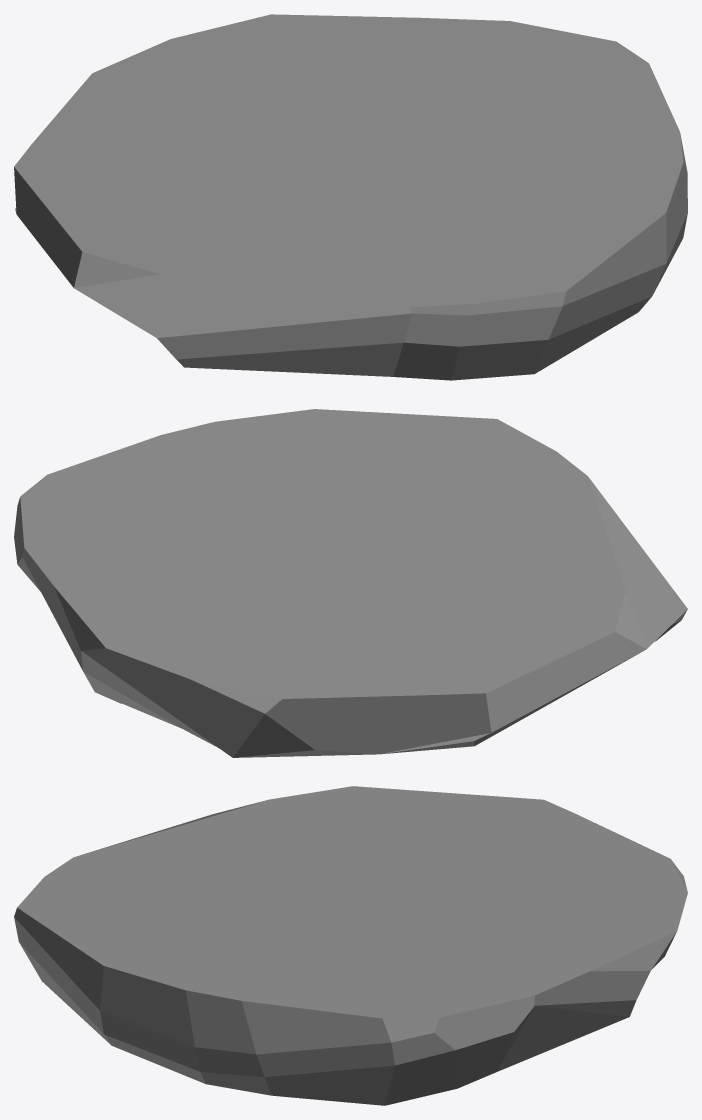
Rendered from HardRock_24.fbx.
3 renders of one model, top to bottom at view 1: azimuth 30°, elevation 25°; view 2: azimuth 150°, elevation 25°; view 3: azimuth 270°, elevation 25°, orthographic. The views are drawn at different scales.
Parts seen in each view (by area): view 1: HardRock_24; view 2: HardRock_24; view 3: HardRock_24.
Boxes of the visible parts, x1,y1,x2,y2 form: HardRock_24: (14, 14, 687, 380); HardRock_24: (14, 409, 687, 757); HardRock_24: (14, 786, 687, 1105).
Size of the model in its own units: 203 by 33.08 by 206.
